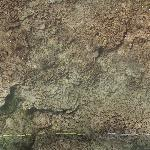dead: (1, 3, 144, 146)
